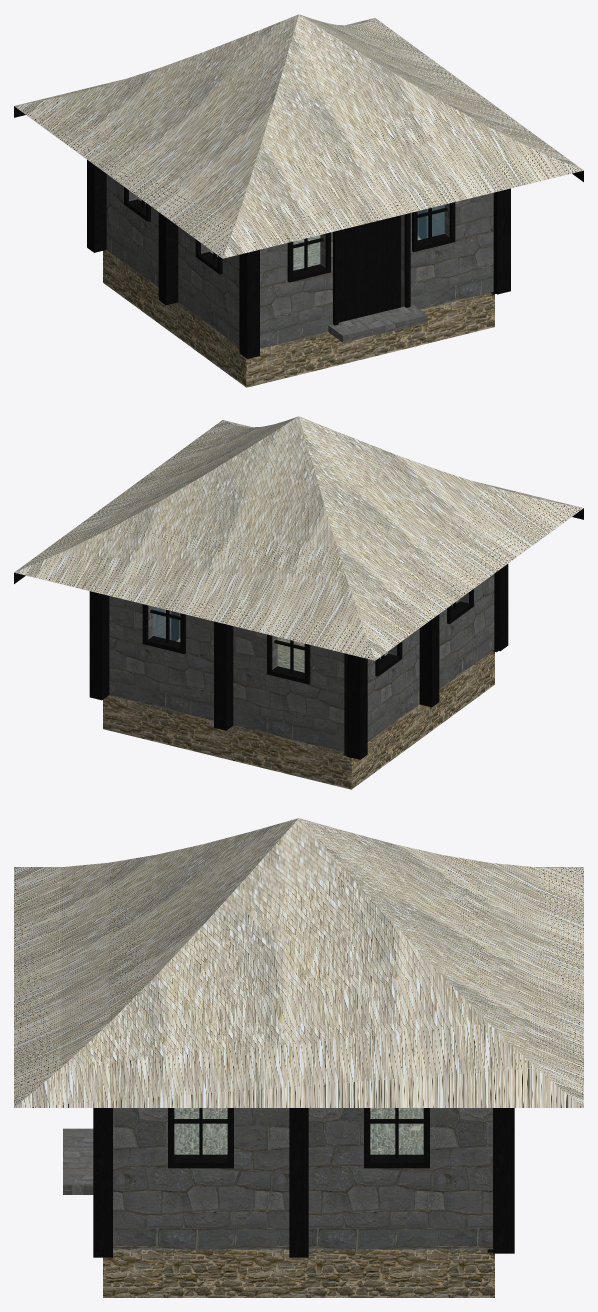
The model's file is frost_shrine_01.glb.
The picture shows the model from 3 angles, top to bottom: view 1: azimuth 30°, elevation 25°; view 2: azimuth 150°, elevation 25°; view 3: azimuth 270°, elevation 25°; orthographic projection. The views are drawn at different scales.
Parts seen in each view (by area): view 1: frost_shrine_01; view 2: frost_shrine_01; view 3: frost_shrine_01.
Part boxes in pixels (<box>): frost_shrine_01: <box>14,14,583,387</box>; frost_shrine_01: <box>14,416,583,789</box>; frost_shrine_01: <box>14,818,583,1297</box>.
Bounding box in the file's own units: 6.4 × 4.92 × 6.4.
6 materials, 5 textured.
